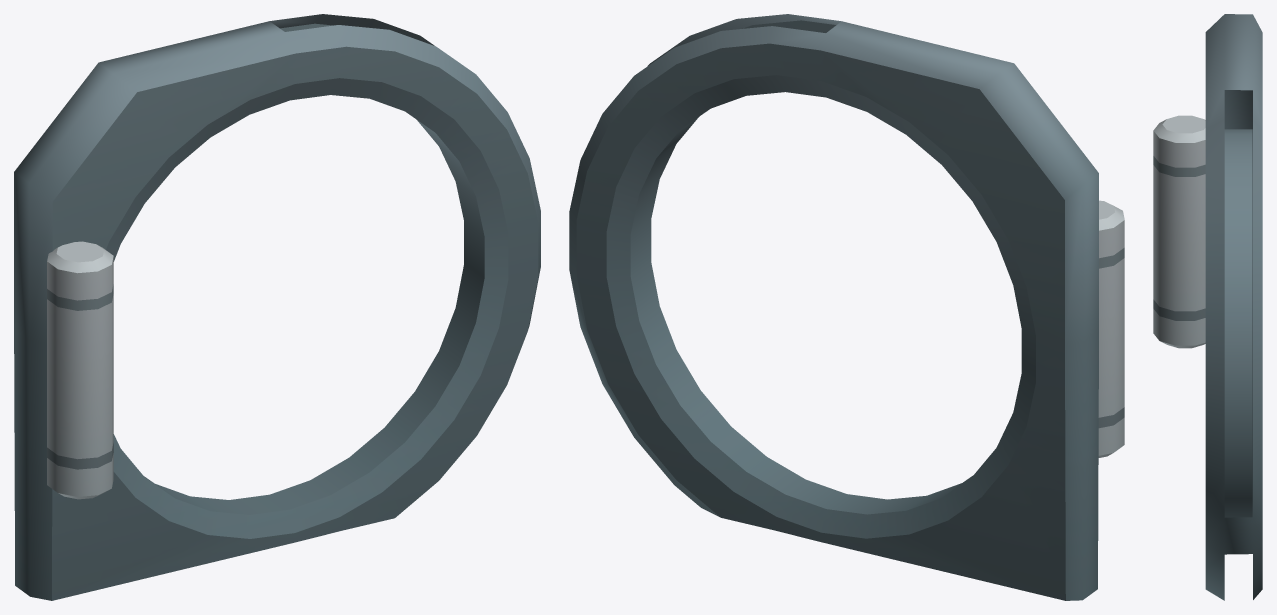
The model's file is Door_007.fbx.
The picture shows the model from 3 angles, left to right: view 1: azimuth 30°, elevation 25°; view 2: azimuth 150°, elevation 25°; view 3: azimuth 270°, elevation 25°; orthographic projection. The views are drawn at different scales.
Visible parts, largest first — view 1: Door_007; view 2: Door_007; view 3: Door_007.
Part boxes in pixels (x1=…): Door_007: x1=14, y1=14, x2=540, y2=600; Door_007: x1=569, y1=14, x2=1124, y2=600; Door_007: x1=1153, y1=14, x2=1262, y2=600.
Bounding box in the file's own units: 322 × 65.62 × 302.
